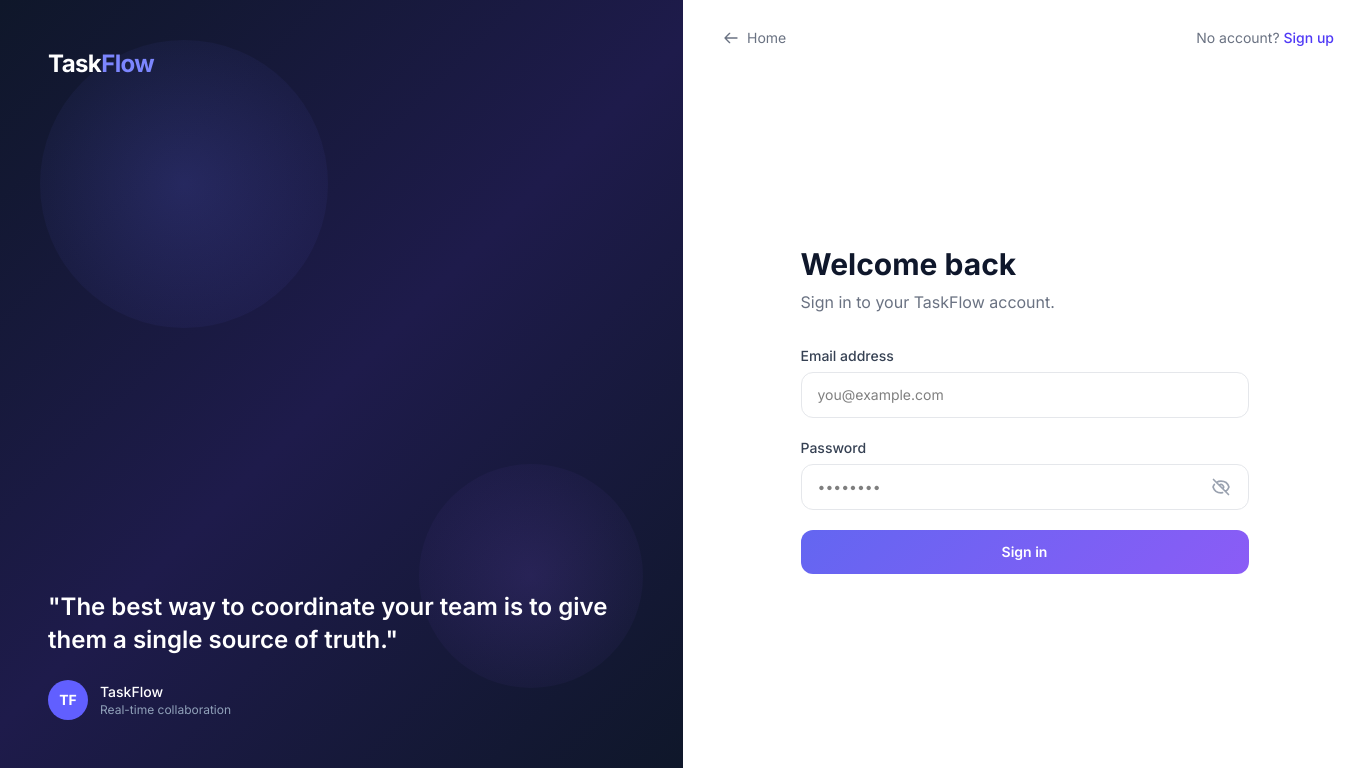
Test: Login page — form behaviour › shows an error alert when login rejects
In the field labelled "Email address": (1024, 395) [800, 372, 1248, 418], type "bad@test.com"
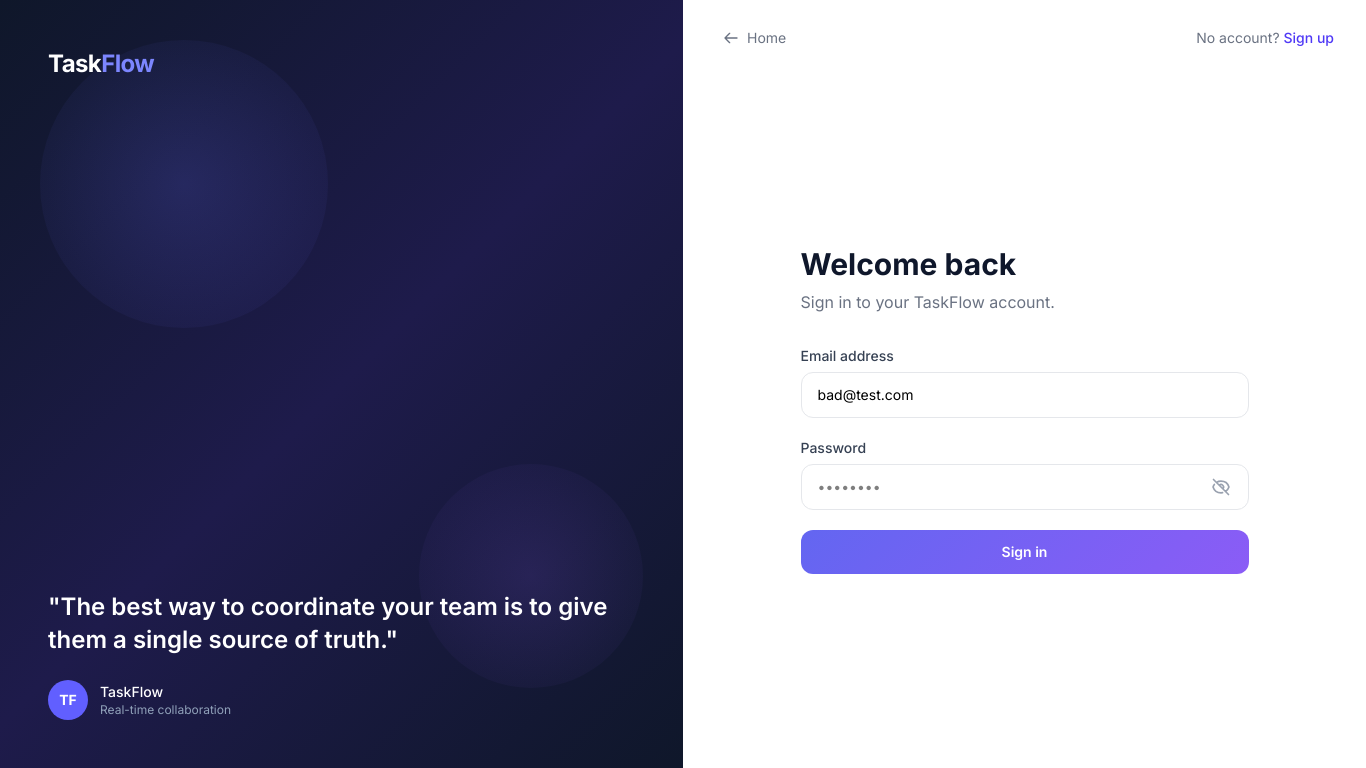
In the password field labelled "Password": (1024, 487) [800, 464, 1248, 510], type "wrongpass"
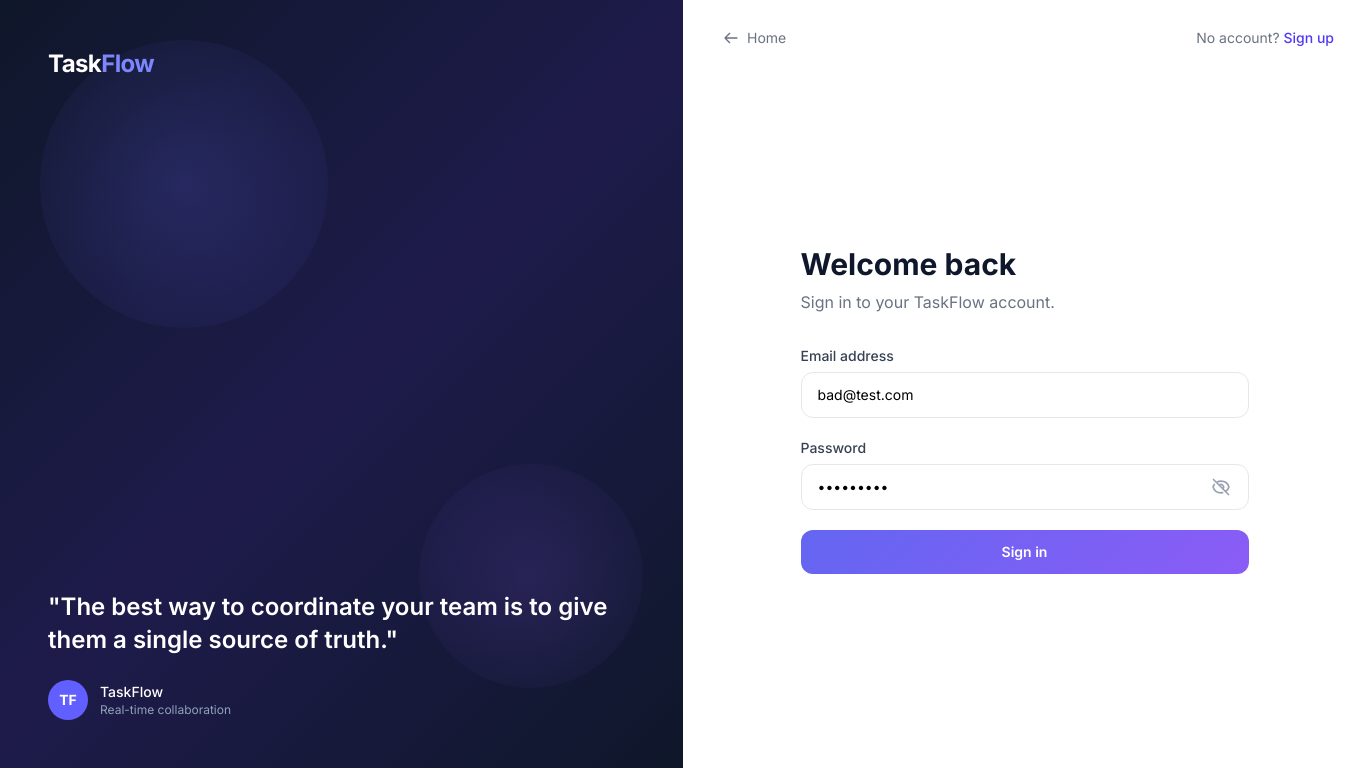
Click the button "Sign in": (1024, 552) [800, 530, 1248, 574]
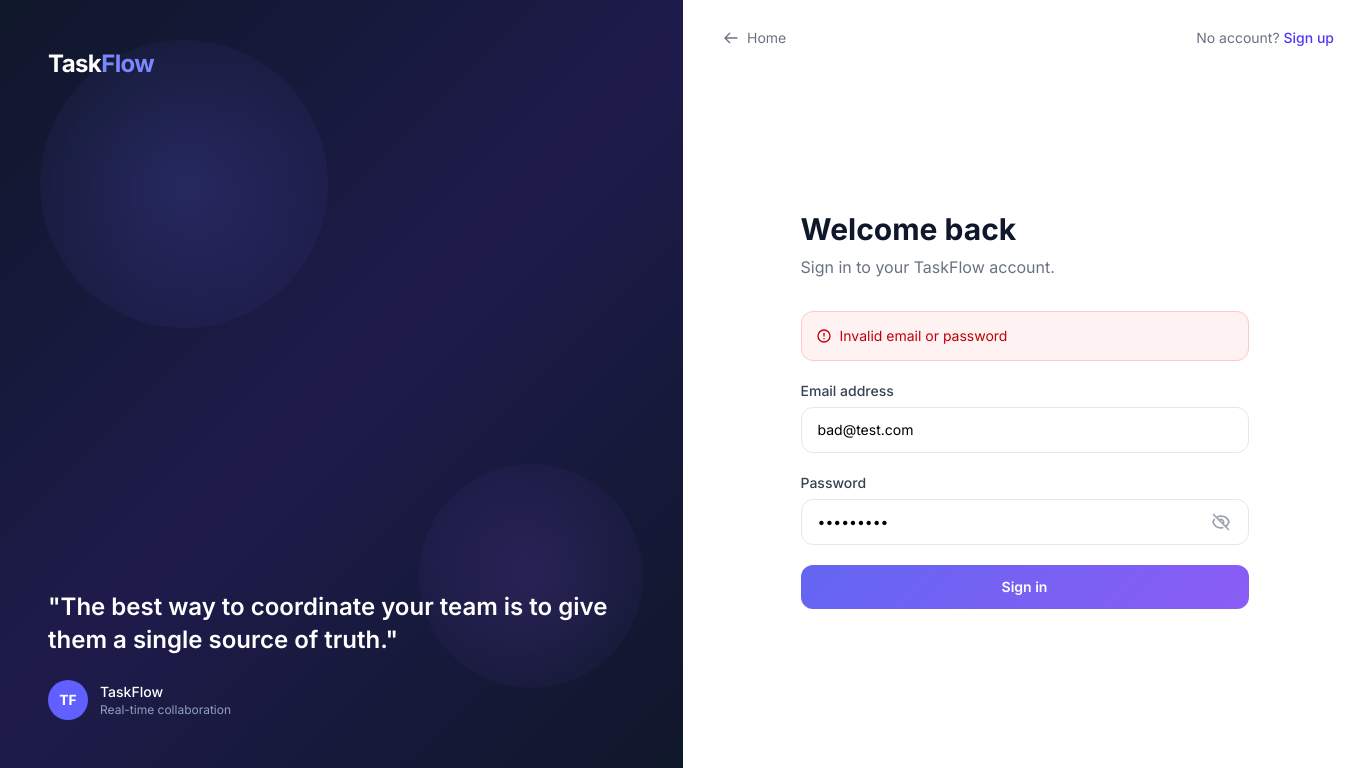
Expected: the message "Invalid email or password" is shown, [800, 311, 1248, 361]
Expected: the message reads "Invalid email or password", [840, 327, 1008, 344]
